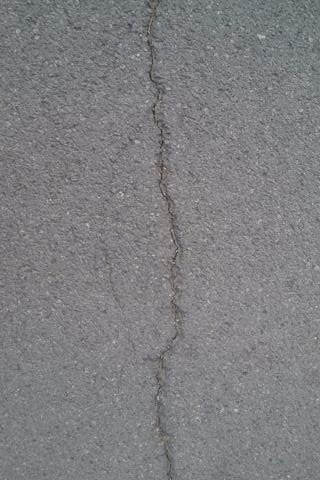A: (143, 3, 187, 480)
